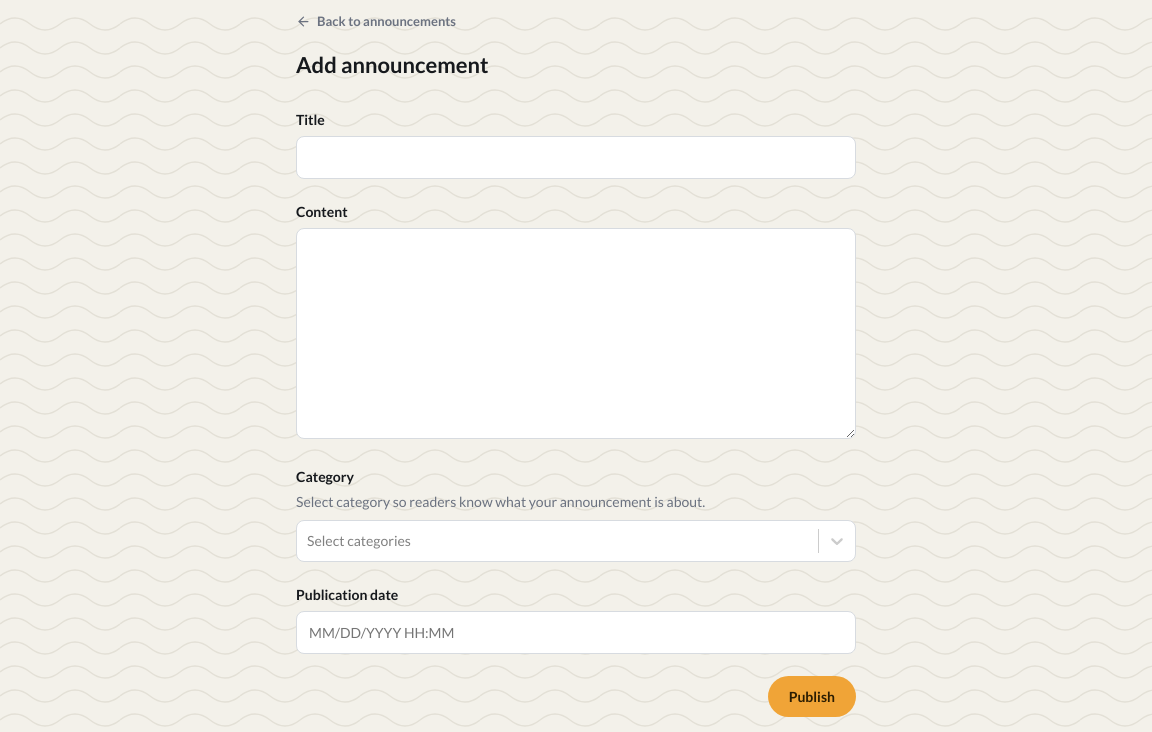
Scenario: AnnouncementForm › shows per-field errors and does not submit an empty form
The image size is (1152, 732).
Click the button "Publish": (812, 696) [768,676,856,716]
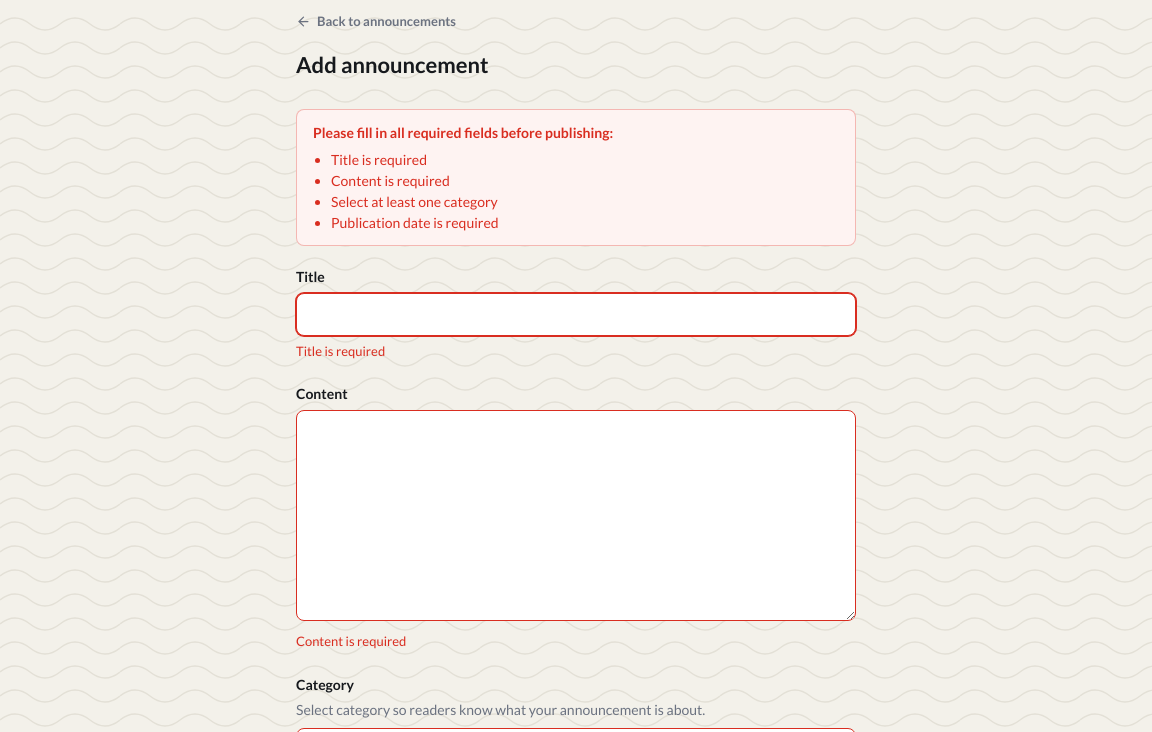
Expected: the text "fill in all required fields" shows "Title is required", [331,150,427,168]
Expected: the number of list items "Title is required" is 2, [331,150,427,168]; [296,342,385,358]
Expected: the number of list items "Content is required" is 2, [331,172,450,188]; [296,633,406,649]
